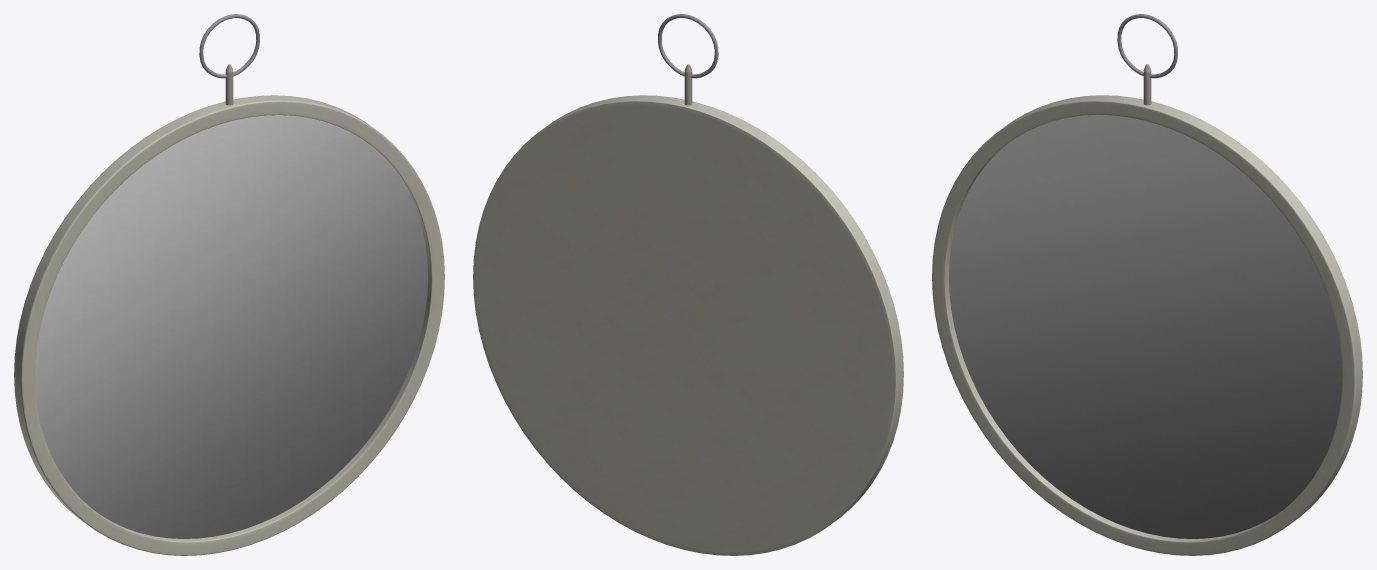
Rendered from abo-B071NHXGFY.glb.
3 views of the same model, side by side, from view 1: azimuth 30°, elevation 25°; view 2: azimuth 150°, elevation 25°; view 3: azimuth 330°, elevation 25° (orthographic).
Size of the model in its own units: 0.594 by 0.713 by 0.02.
1 material, 1 textured.
